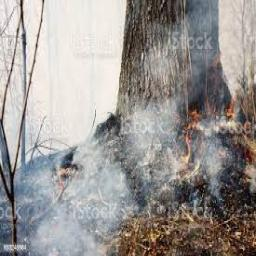Low smoke: (1, 54, 244, 255)
